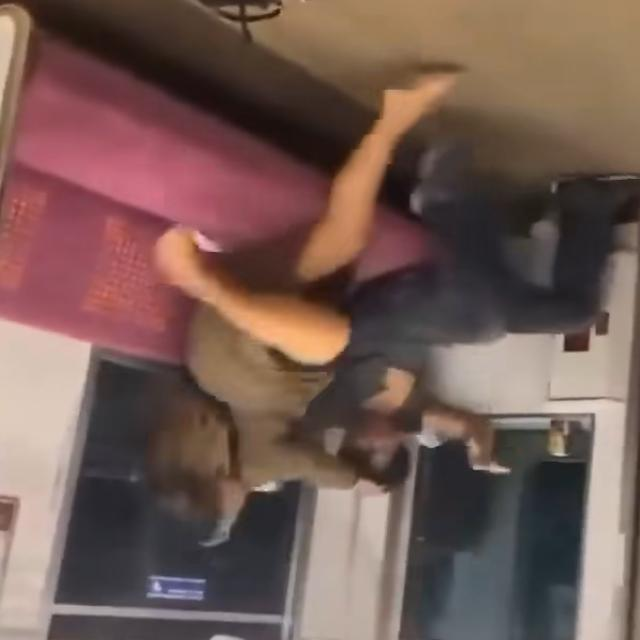fight: (135, 351, 509, 547)
